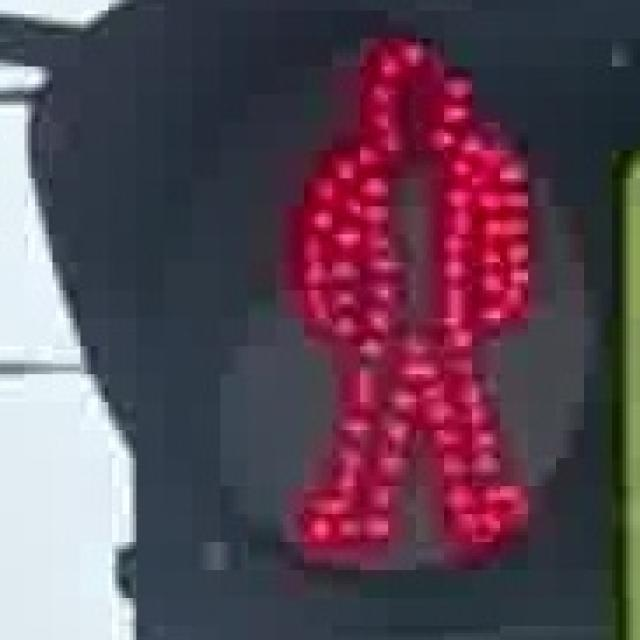red_light: (258, 21, 550, 574)
